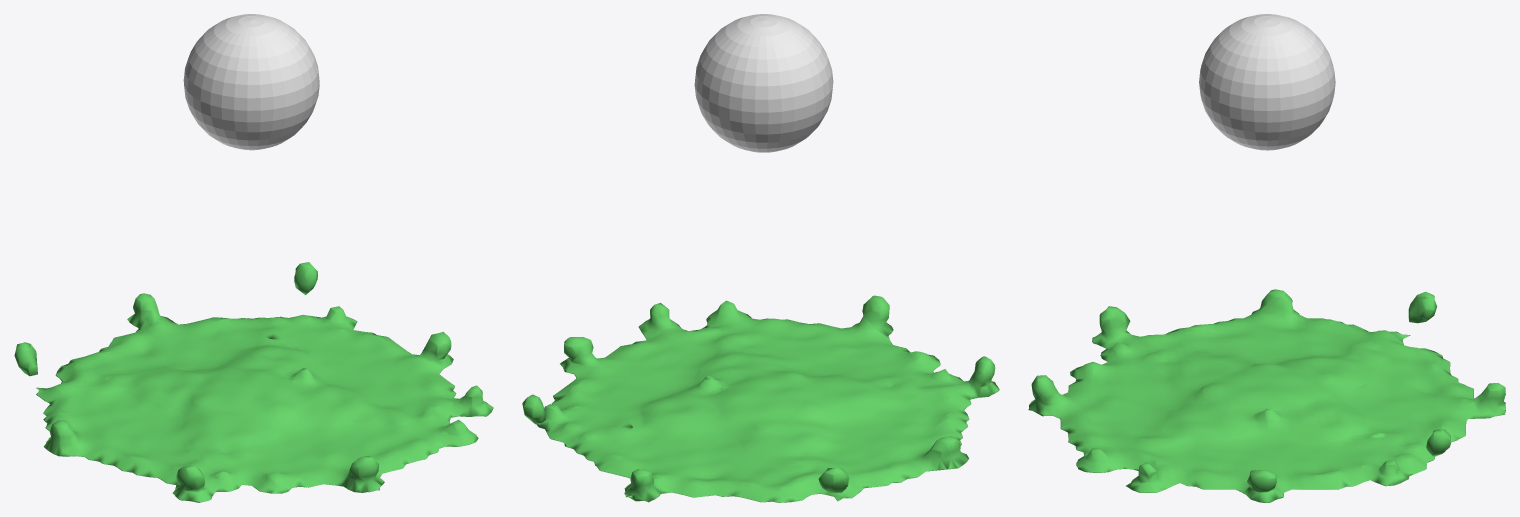
The model's file is puddle2.fbx.
3 views of the same model, side by side, from view 1: azimuth 30°, elevation 25°; view 2: azimuth 150°, elevation 25°; view 3: azimuth 270°, elevation 25° (orthographic).
Visible parts, largest first — view 1: Cube, Sphere; view 2: Cube, Sphere; view 3: Cube, Sphere.
Part boxes in pixels (x1,y1,x2,y2): Cube: (14,262,493,502); Sphere: (183,14,319,150); Cube: (522,295,999,502); Sphere: (694,14,833,152); Cube: (1028,289,1505,502); Sphere: (1199,14,1335,150).
Bounding box in the file's own units: 573 × 534 × 592.
